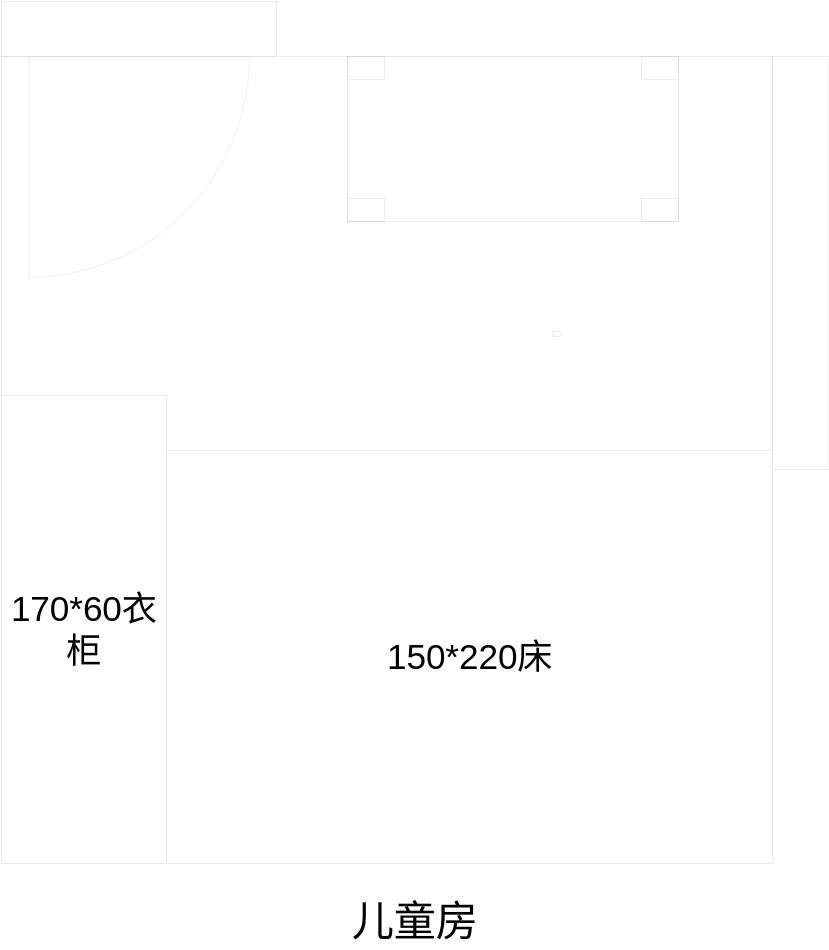
Image size: 829x950. Some labels were removed from this diagram. The shapes that lost their labels are listed below. From the top down, each one's centre as x and y in pixels, then its label:
At point (513, 139): "60*120桌子".
At point (800, 263): "飘窗".
